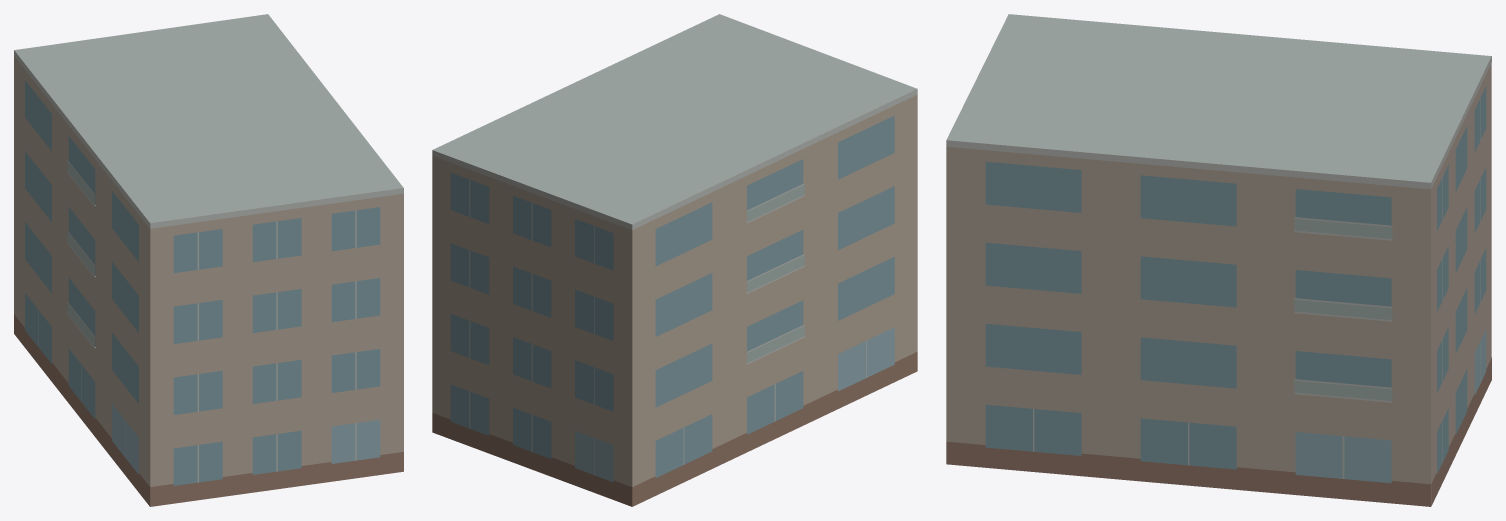
The model's file is survey-upis-32722596.glb.
3 views of the same model, side by side, from view 1: azimuth 30°, elevation 25°; view 2: azimuth 150°, elevation 25°; view 3: azimuth 270°, elevation 25° (orthographic). The views are drawn at different scales.
Parts seen in each view (by area): view 1: survey-upis-32722596.tmp; view 2: survey-upis-32722596.tmp; view 3: survey-upis-32722596.tmp.
Part boxes in pixels (x1,y1,x2,y2): survey-upis-32722596.tmp: [14, 14, 403, 506]; survey-upis-32722596.tmp: [432, 14, 917, 506]; survey-upis-32722596.tmp: [946, 14, 1491, 506].
Bounding box in the file's own units: 13.64 × 12.2 × 18.62.
